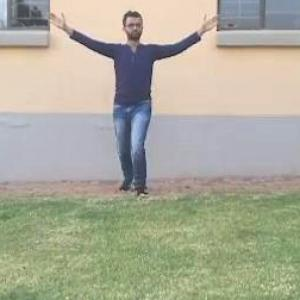takeoff: (58, 6, 226, 186)
